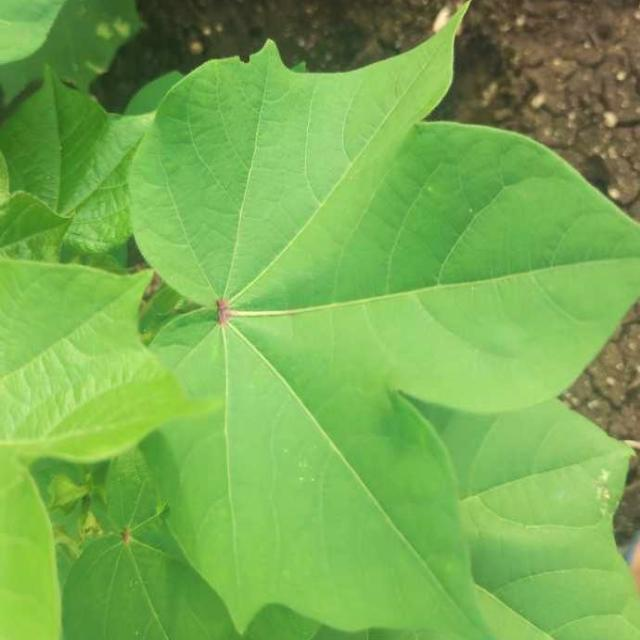Healthy Leaf: (30, 28, 423, 640)
